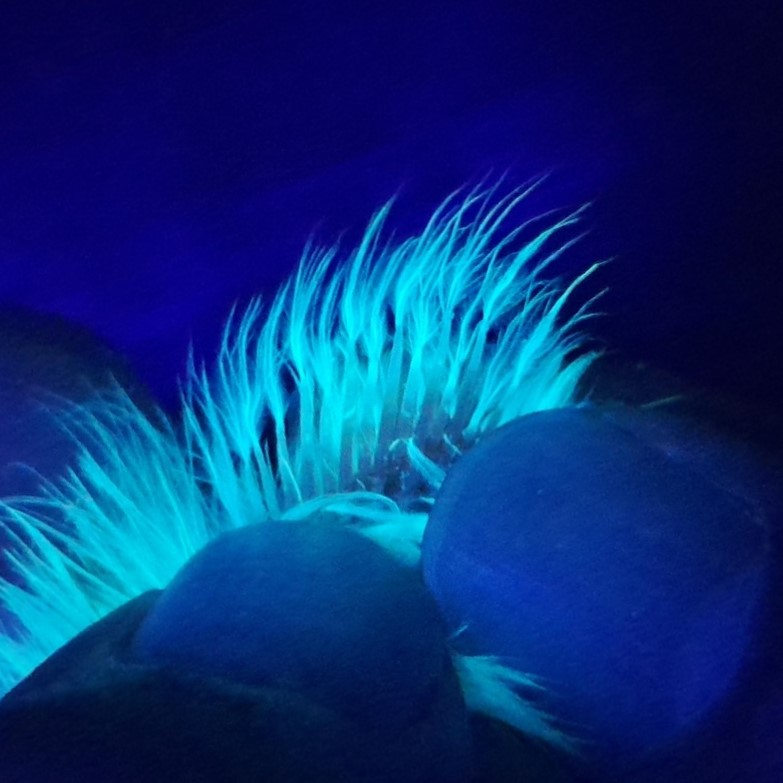male: (203, 278, 518, 505)
